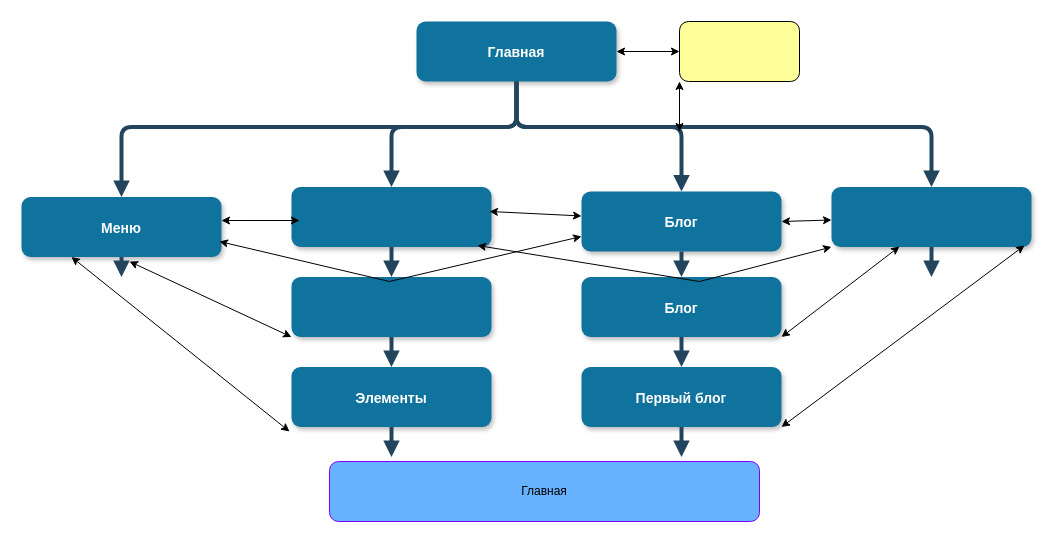
The diagram is 1054 pixels wide and 539 high, and some of its shapes have lost their labels. The centre of each missing label's shape, as x and y in pixels:
"КНИГА МАРШРУТОВ" goes at pixel 739 51.
"Контакты" goes at pixel 932 218.
"Про нас" goes at pixel 392 308.
"Страницы" goes at pixel 392 218.
